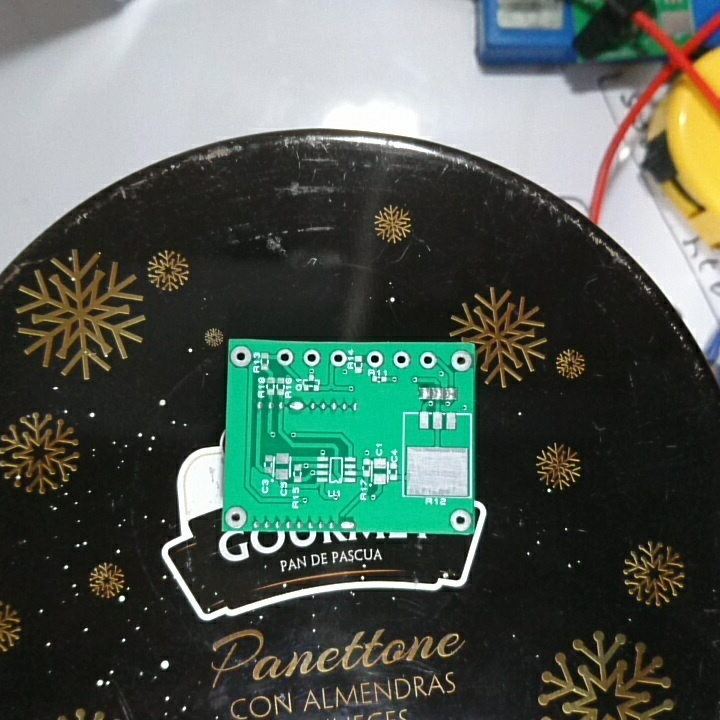F: (447, 349, 474, 374), (228, 343, 253, 370), (224, 505, 249, 531), (448, 508, 473, 533), (390, 349, 411, 369), (417, 349, 437, 369), (328, 348, 347, 369), (276, 347, 297, 366), (301, 349, 323, 367), (365, 351, 385, 367)
P: (338, 517, 360, 532), (288, 398, 305, 415)
